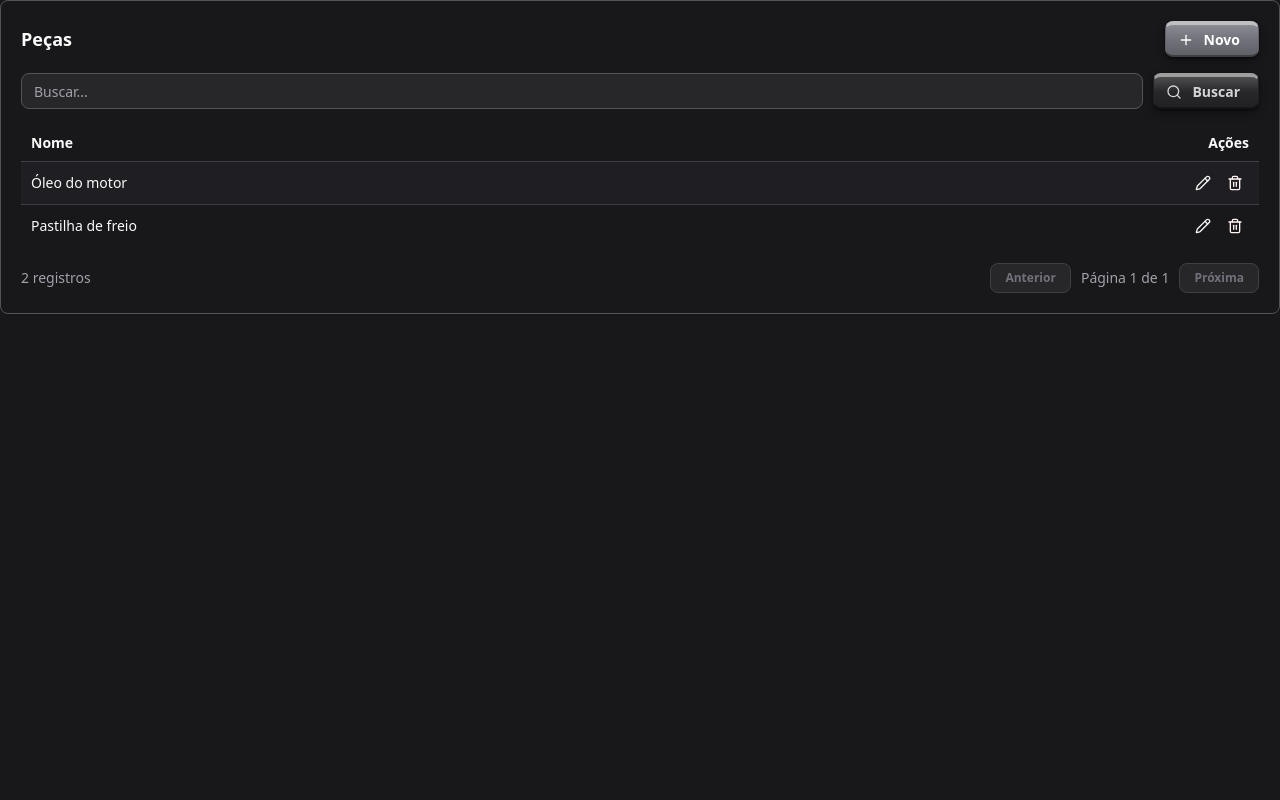
Scenario: CrudList › exclui depois de confirmar e atualiza a lista
The width and height of the screenshot is (1280, 800).
Click the button named "Excluir Pastilha de freio".
click(1235, 226)  # box [1221,212,1249,240]
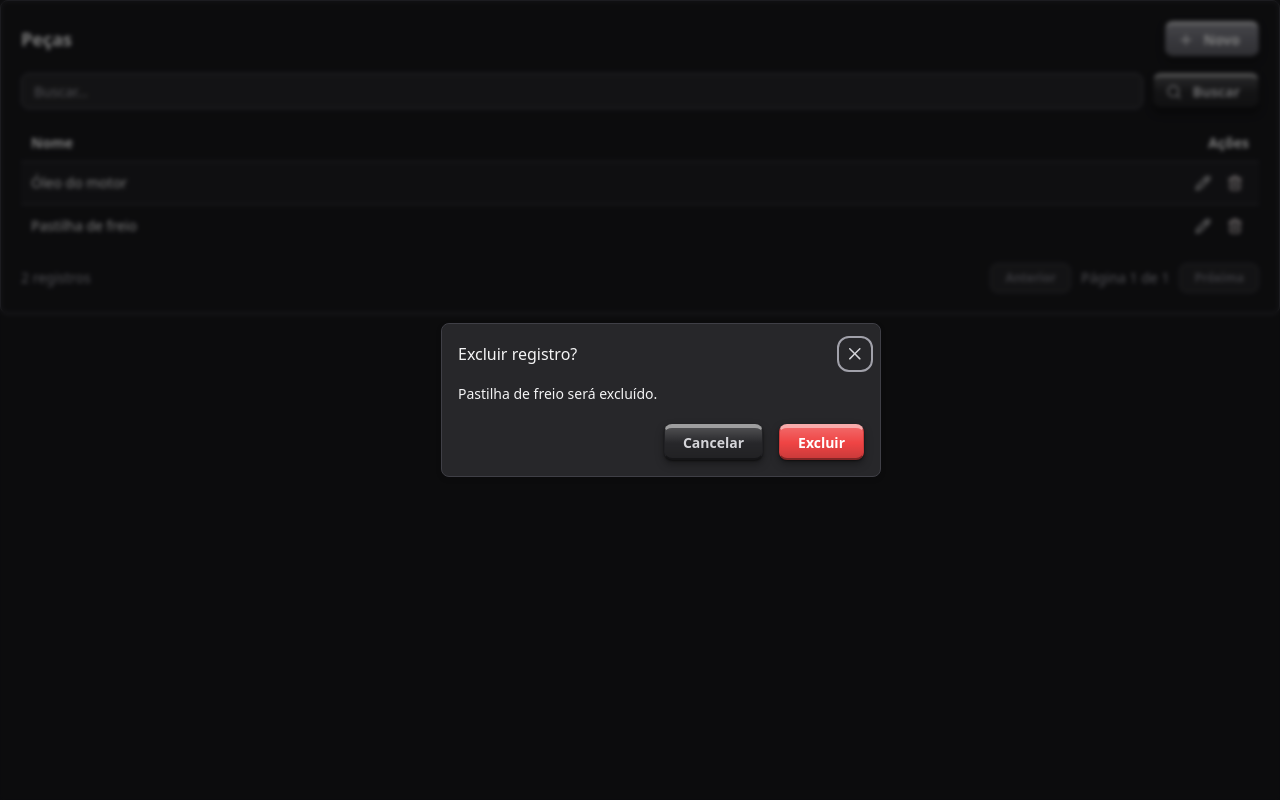
Click the button "Excluir".
click(822, 442)  # box [779,424,864,460]
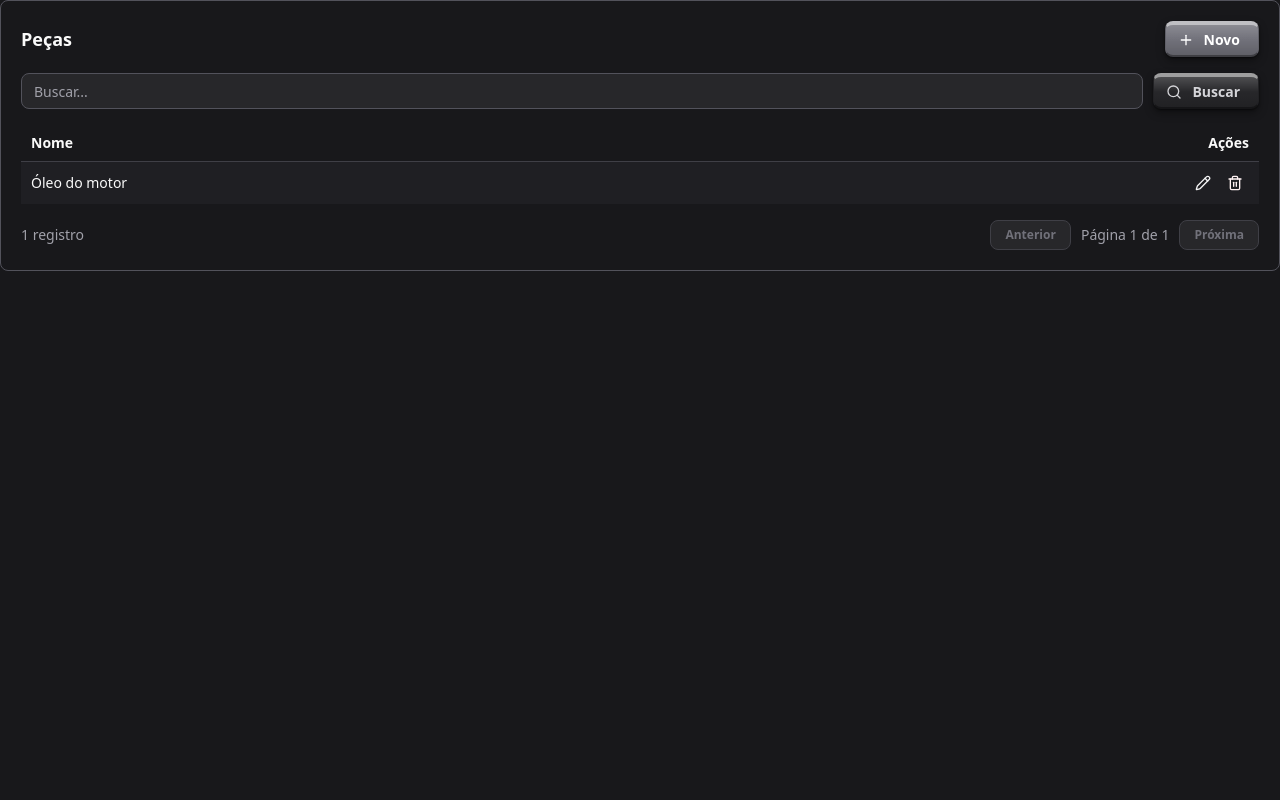
Result: the text "Pastilha de freio" is gone
Result: the text "1 registro" is shown at [21,224,84,245]
